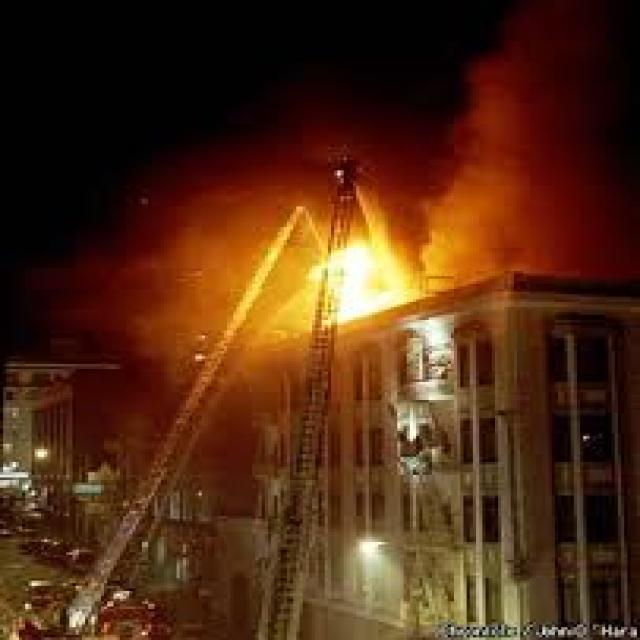Fire: (290, 232, 416, 320)
Smoke: (416, 0, 640, 321)
